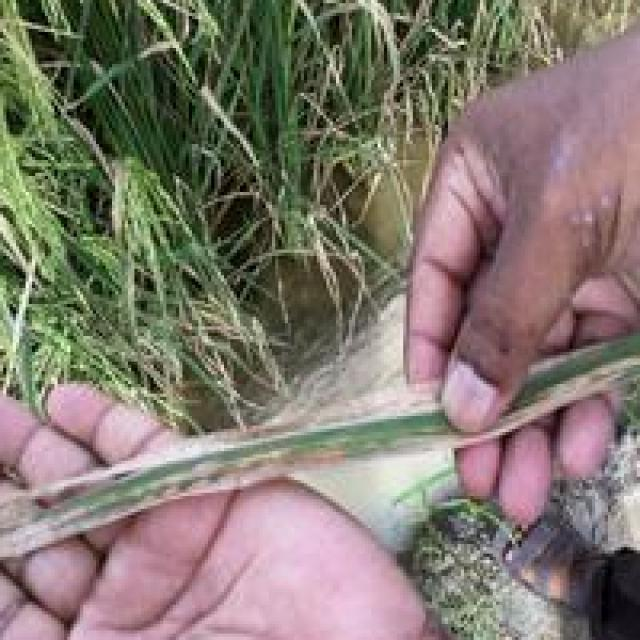Bacterial_Leaf_Blight: (0, 332, 611, 566)
